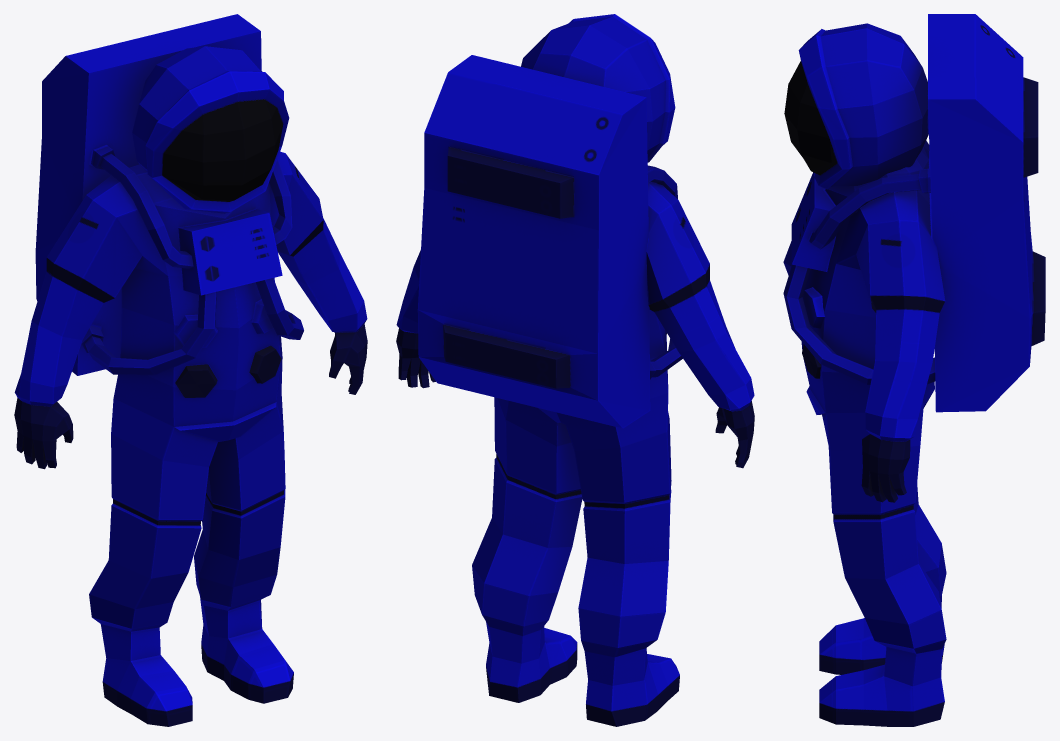
The picture shows the model from 3 angles, left to right: view 1: azimuth 30°, elevation 25°; view 2: azimuth 150°, elevation 25°; view 3: azimuth 270°, elevation 25°; orthographic projection.
Parts seen in each view (by area): view 1: Astronautglb; view 2: Astronautglb; view 3: Astronautglb.
Part boxes in pixels (bbox=[...]): Astronautglb: bbox=[14, 14, 367, 726]; Astronautglb: bbox=[396, 14, 754, 726]; Astronautglb: bbox=[783, 14, 1045, 726].
Bounding box in the file's own units: 1.12 × 2.01 × 0.7235.
Materials: 1 (1 with a texture image).
